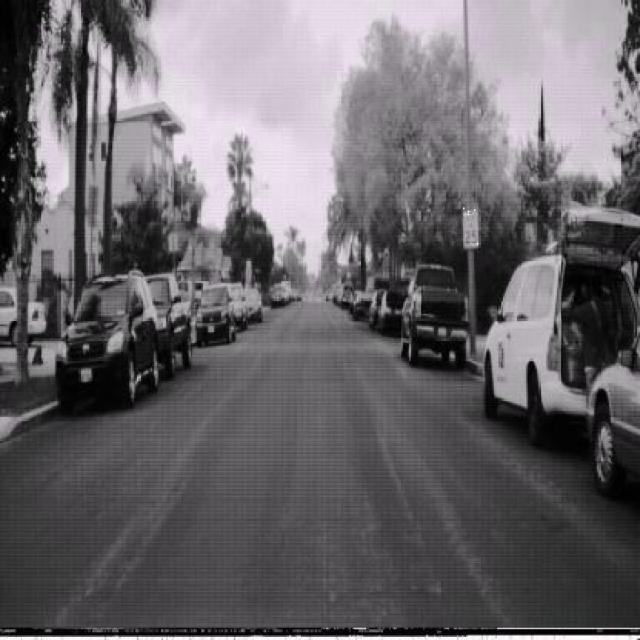speedLimit25: (462, 208, 479, 248)
